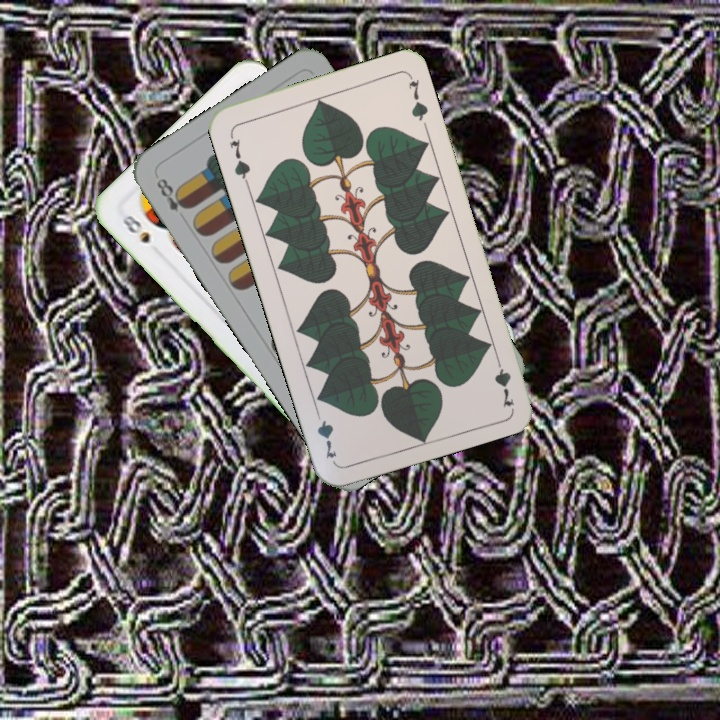E8: (152, 174, 192, 215)
G7: (490, 350, 517, 410), (224, 135, 253, 186)
S8: (117, 210, 153, 246)
